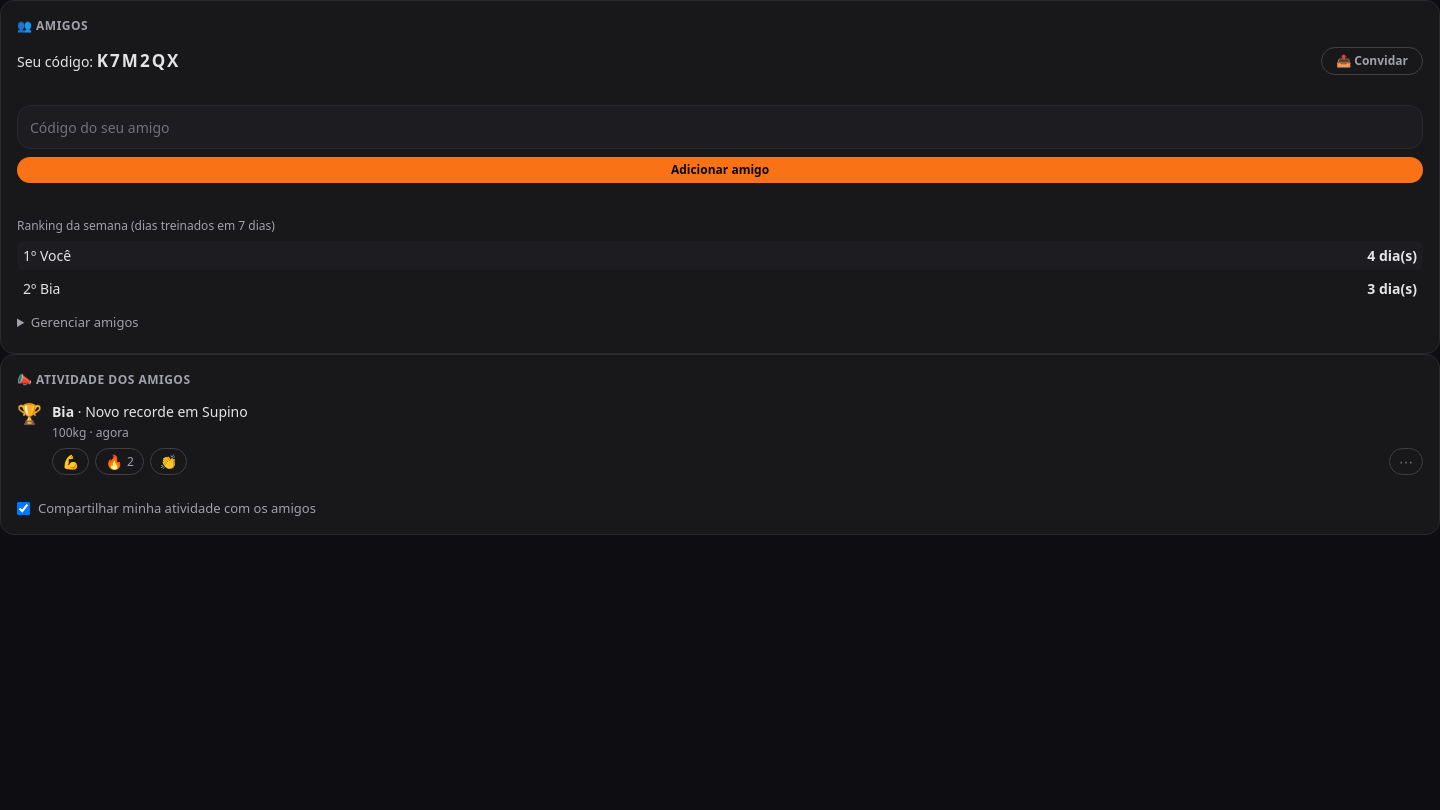
Friends › erro do servidor vira mensagem amigável
Expected: the text "👥 Amigos" is shown, top-left (17, 17), bottom-right (88, 34)
Type "ZZZZ" into the field labelled "Código do seu amigo" at point(720, 127), box top-left (17, 105), bottom-right (1423, 149)
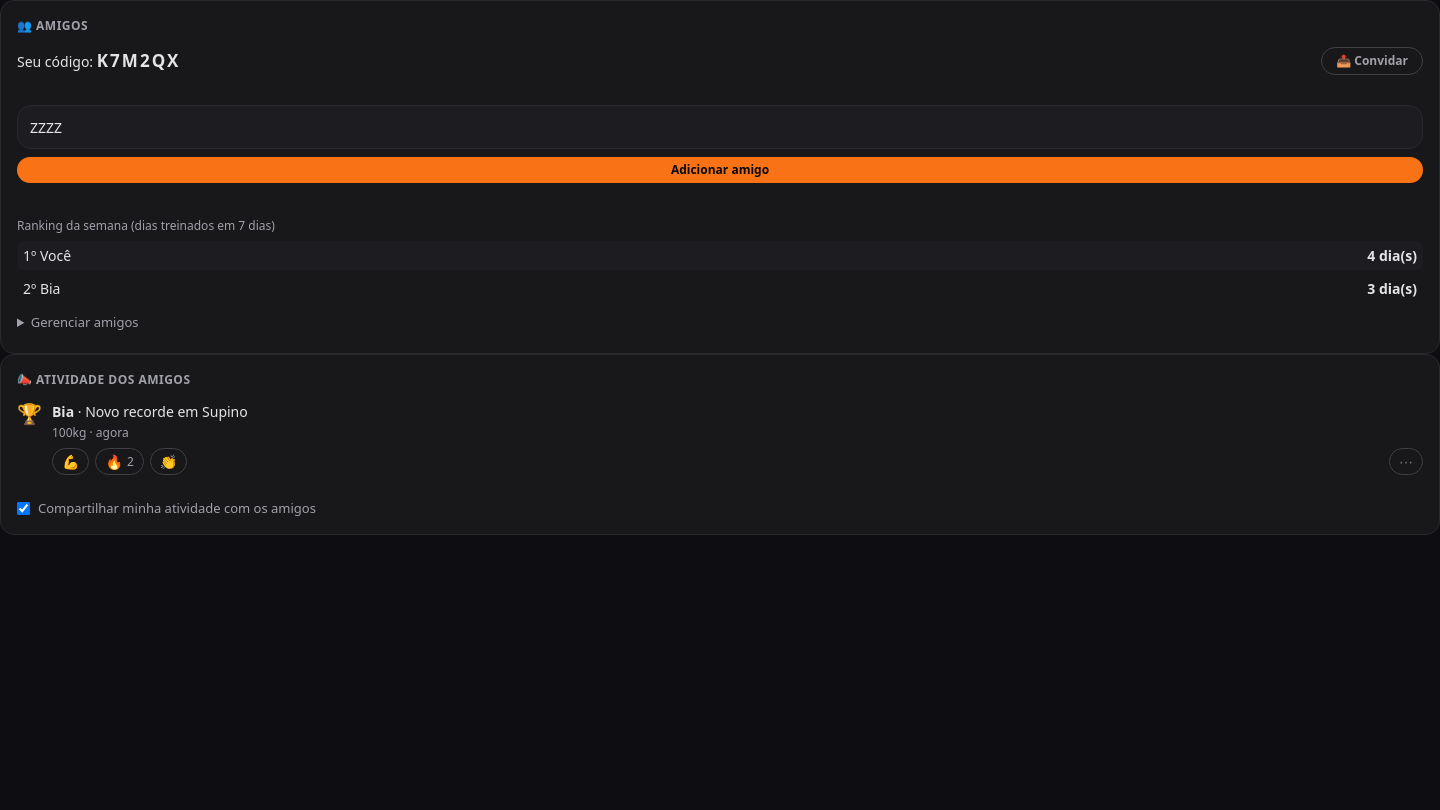
Click the button "Adicionar amigo" at point(720, 170), box top-left (17, 157), bottom-right (1423, 183)
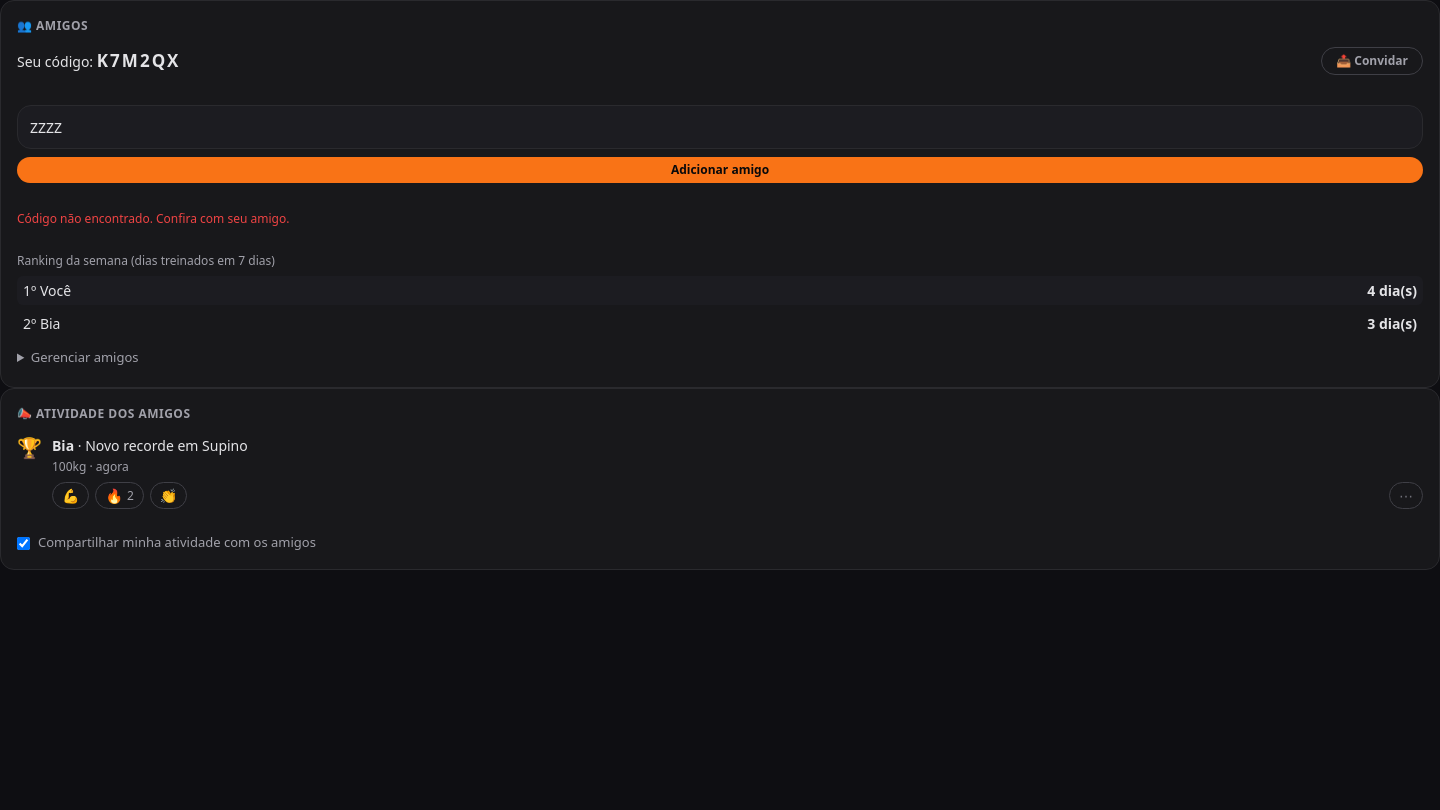
Result: the message shows "Código não encontrado" at top-left (17, 210), bottom-right (289, 227)
